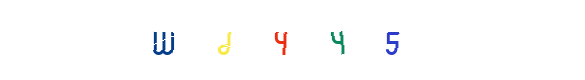4: (241, 0, 321, 80), (249, 0, 329, 80)
5: (252, 0, 332, 80)
D: (230, 0, 310, 80)
W: (202, 0, 282, 80)
